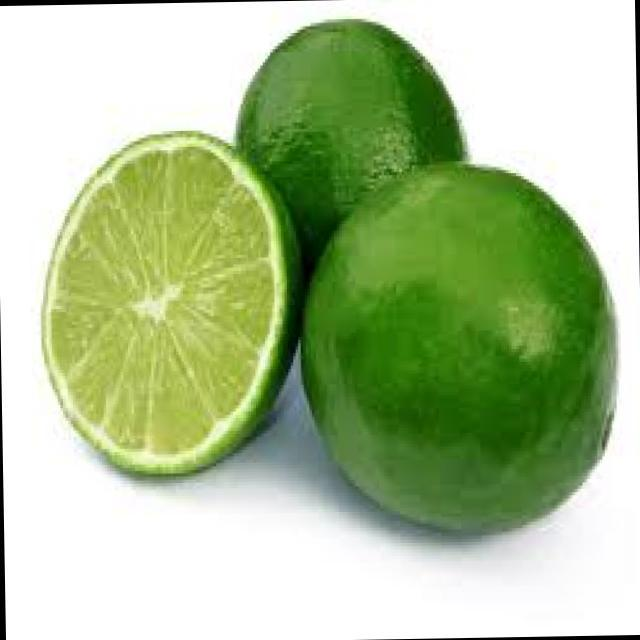Lemon: (25, 119, 298, 492)
